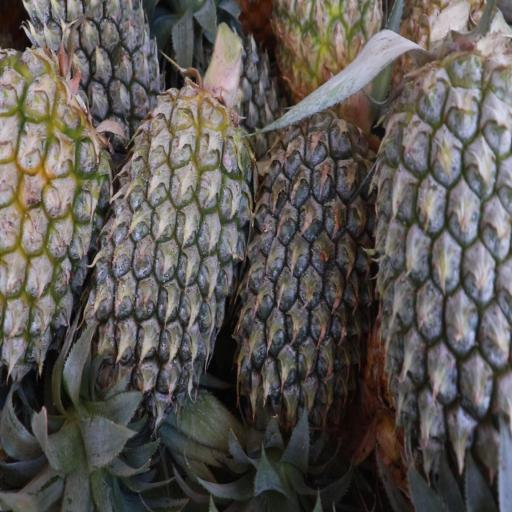------------------------------: (0, 60, 103, 363), (274, 0, 384, 113)
